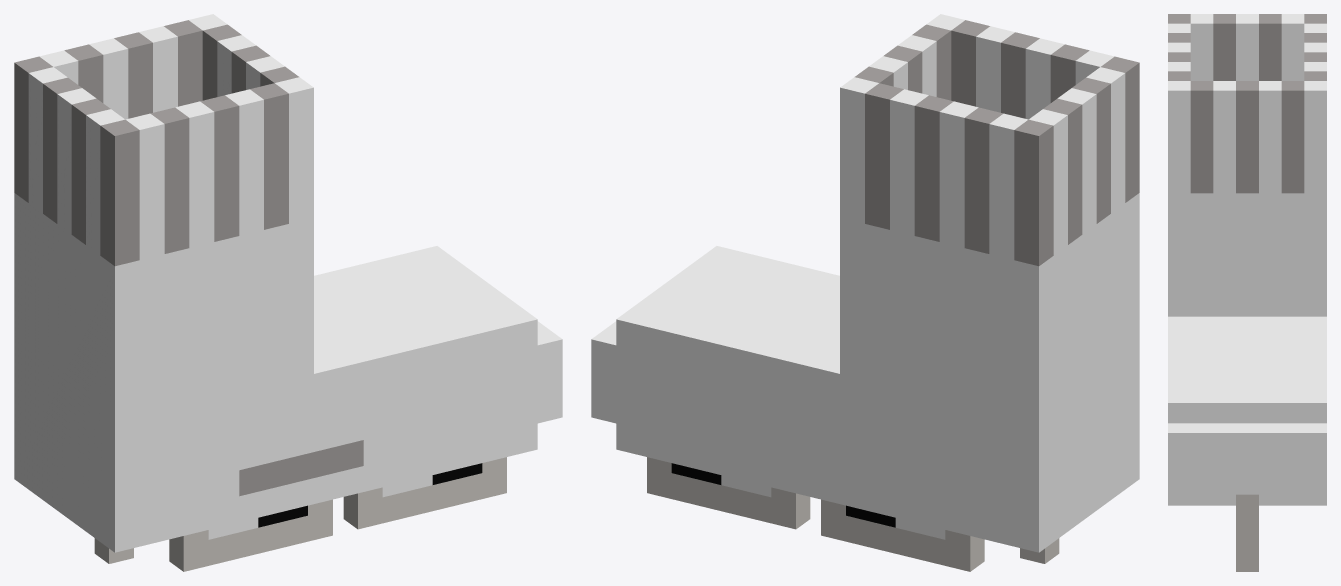
File: sock.glb
The picture shows the model from 3 angles, left to right: view 1: azimuth 30°, elevation 25°; view 2: azimuth 150°, elevation 25°; view 3: azimuth 270°, elevation 25°; orthographic projection. The views are drawn at different scales.
Parts seen in each view (by area): view 1: base, glasses, mouth, layer-2; view 2: base, glasses, layer-2; view 3: base, glasses.
Boxes of the visible parts, x1,y1,x2,y2 form: base: (14,14,562,552); glasses: (94,457,506,571); mouth: (239,440,363,496); layer-2: (208,463,482,539); base: (591,14,1139,552); glasses: (647,457,1059,571); layer-2: (671,463,945,539); base: (1168,14,1326,505); glasses: (1236,494,1258,571).
Size of the model in its own units: 18 by 19 by 7.
8 materials, 8 textured.
